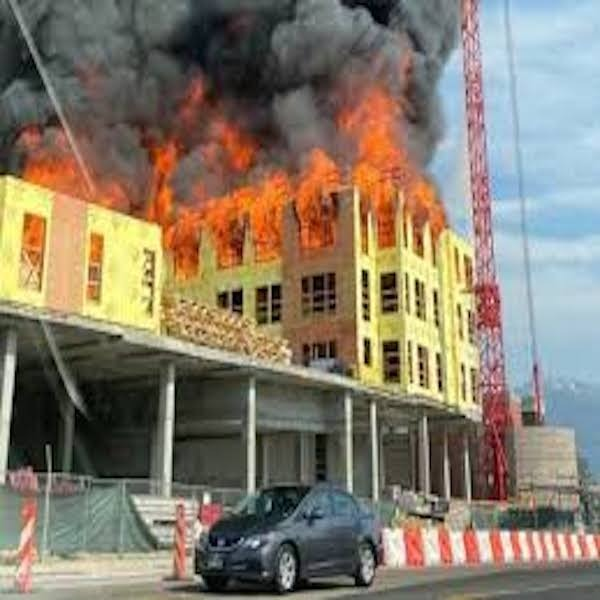fire: (302, 56, 445, 211), (11, 84, 148, 200), (217, 80, 297, 268), (155, 116, 216, 276)
